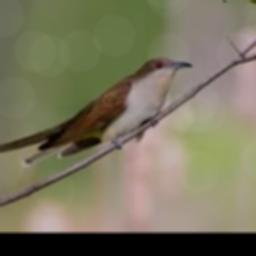Cuckoo: (0, 57, 193, 167)
